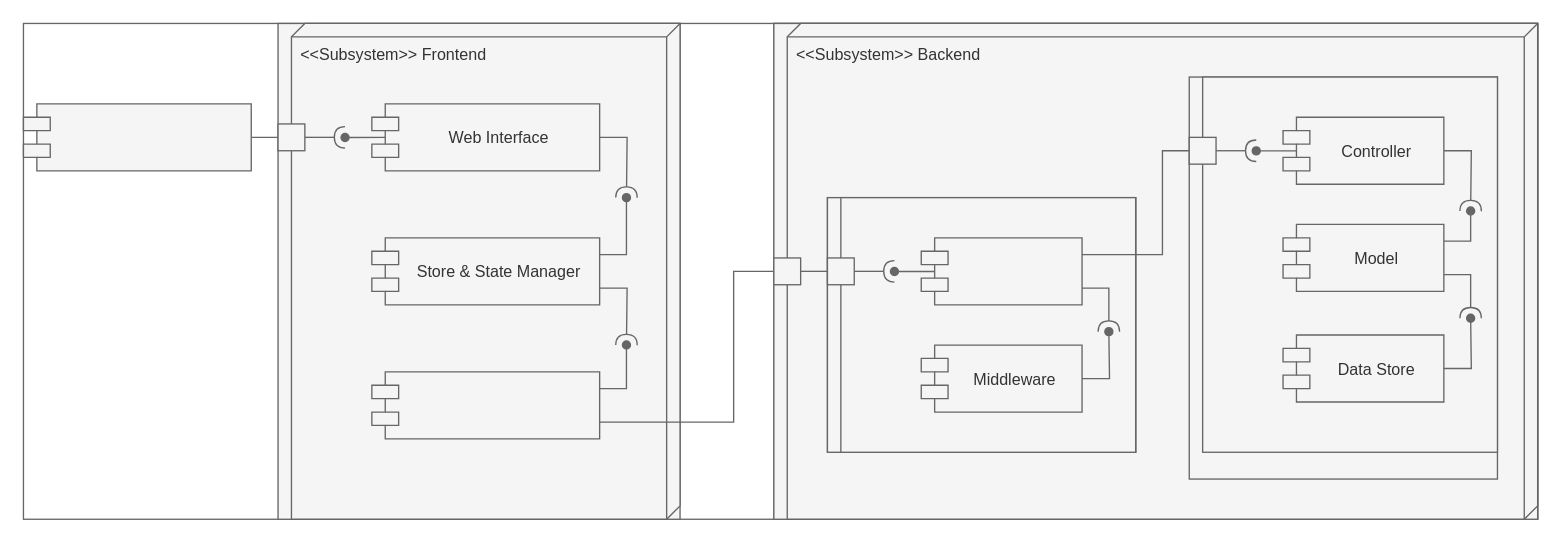
The diagram is 1561 pixels wide and 543 high, and some of its shapes have lost their labels. Here are the shapes that lost their labels. From the top down, the centre of each, then its label:
At pixel 136 137: "QR Code Scanner".
At pixel 1001 271: "Router".
At pixel 485 405: "API Service".
